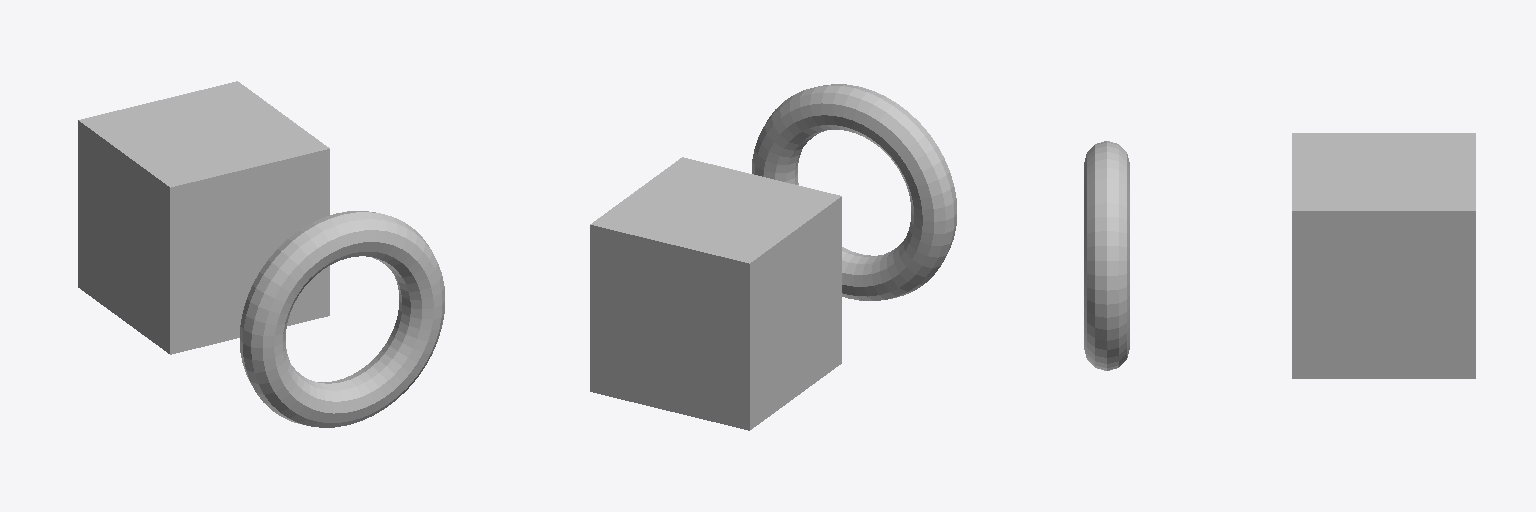
File: cube_and_torus.obj
The picture shows the model from 3 angles: view 1: azimuth 30°, elevation 25°; view 2: azimuth 150°, elevation 25°; view 3: azimuth 270°, elevation 25°; orthographic projection.
Parts seen in each view (by area): view 1: Cube_Cube.001, Torus; view 2: Cube_Cube.001, Torus; view 3: Cube_Cube.001, Torus.
Boxes of the visible parts, box(x1,y1,x2,y2) form: Cube_Cube.001: box(78, 81, 329, 354); Torus: box(240, 211, 444, 427); Cube_Cube.001: box(590, 157, 841, 430); Torus: box(752, 84, 956, 300); Cube_Cube.001: box(1292, 133, 1475, 378); Torus: box(1084, 141, 1129, 370).
Bounding box in the file's own units: 2.5 × 2.5 × 4.25.